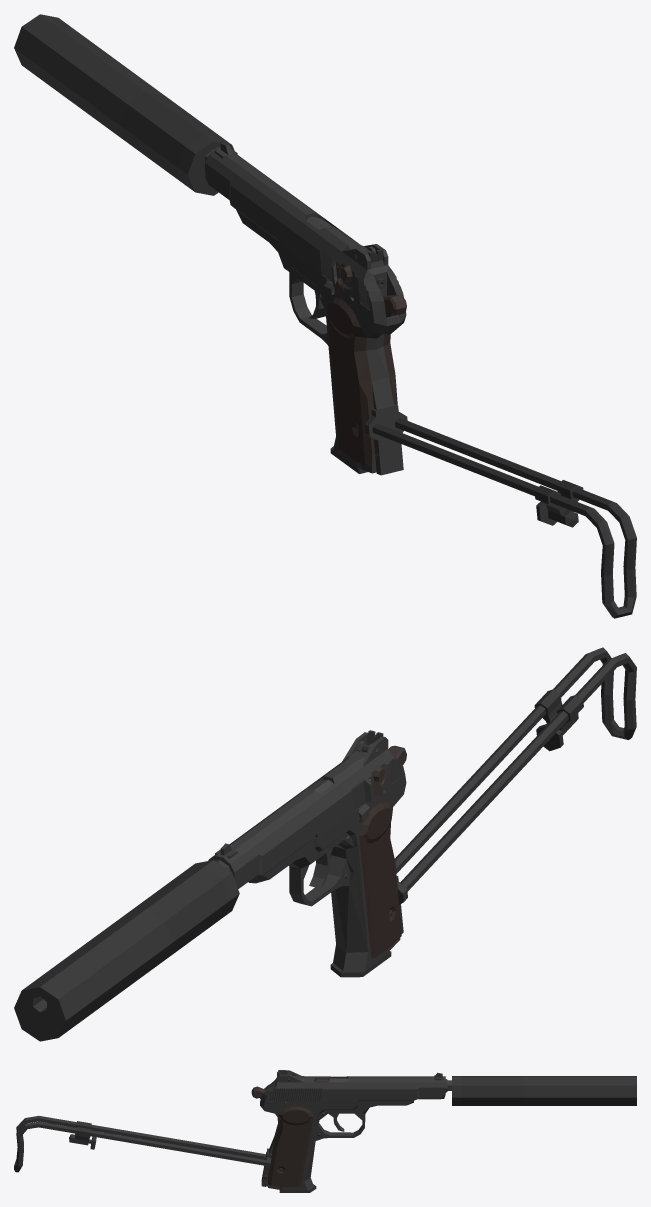
Rendered from apb.fbx.
The picture shows the model from 3 angles, top to bottom: view 1: azimuth 30°, elevation 25°; view 2: azimuth 150°, elevation 25°; view 3: azimuth 270°, elevation 25°; orthographic projection. The views are drawn at different scales.
Parts seen in each view (by area): view 1: apb_barrel, apb_frame, apb_slide, apb_stock; view 2: apb_barrel, apb_frame, apb_stock, apb_slide; view 3: apb_barrel, apb_frame, apb_slide, apb_stock.
Part boxes in pixels (x1,y1,x2,y2): apb_barrel: (14, 14, 349, 237); apb_frame: (236, 209, 406, 473); apb_slide: (205, 143, 403, 312); apb_stock: (364, 404, 636, 618); apb_barrel: (14, 768, 334, 1041); apb_frame: (248, 775, 406, 970); apb_stock: (395, 647, 636, 933); apb_slide: (208, 730, 405, 888); apb_barrel: (314, 1076, 636, 1105); apb_frame: (260, 1099, 413, 1190); apb_slide: (261, 1070, 447, 1101); apb_stock: (14, 1116, 271, 1186).
Size of the model in its own units: 60.17 by 242 by 1169.
